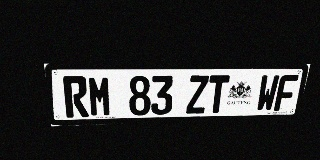3: (151, 76, 173, 115)
8: (129, 76, 151, 116)
F: (274, 75, 299, 111)
M: (87, 76, 112, 117)
R: (62, 76, 89, 118)
T: (206, 75, 230, 113)
W: (255, 75, 280, 112)
Z: (186, 75, 209, 114)
